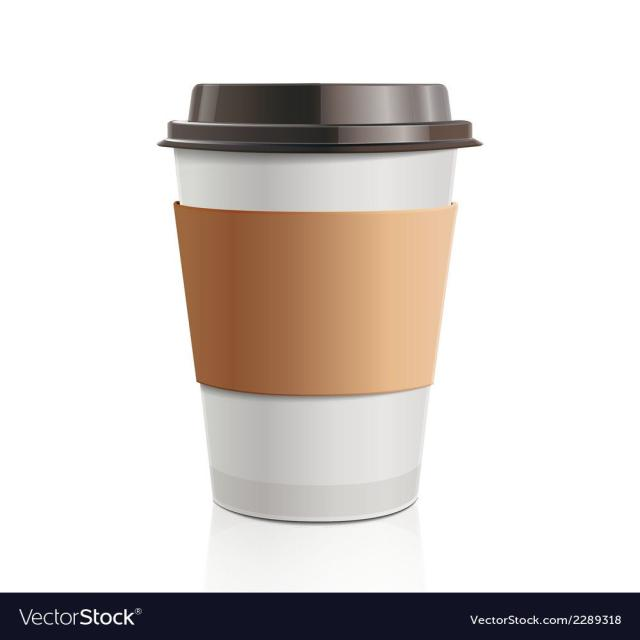paper cup: (156, 84, 483, 524)
